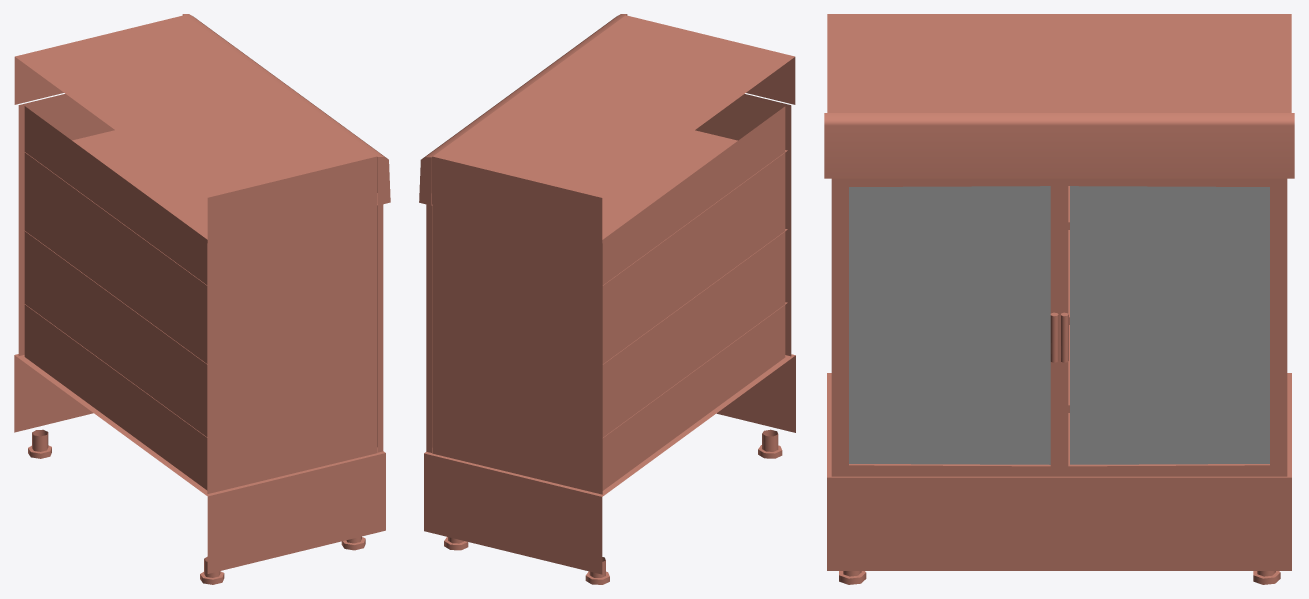
Rendered from Napitok.fbx.
3 views of the same model, side by side, from view 1: azimuth 30°, elevation 25°; view 2: azimuth 150°, elevation 25°; view 3: azimuth 270°, elevation 25° (orthographic). The views are drawn at different scales.
Visible parts, largest first — view 1: Napitok; view 2: Napitok; view 3: Napitok.
Part boxes in pixels (box(x1,y1,x2,y2)): Napitok: box(14, 14, 390, 584); Napitok: box(419, 14, 795, 584); Napitok: box(824, 14, 1294, 584).
Size of the model in its own units: 100 by 200 by 180.
